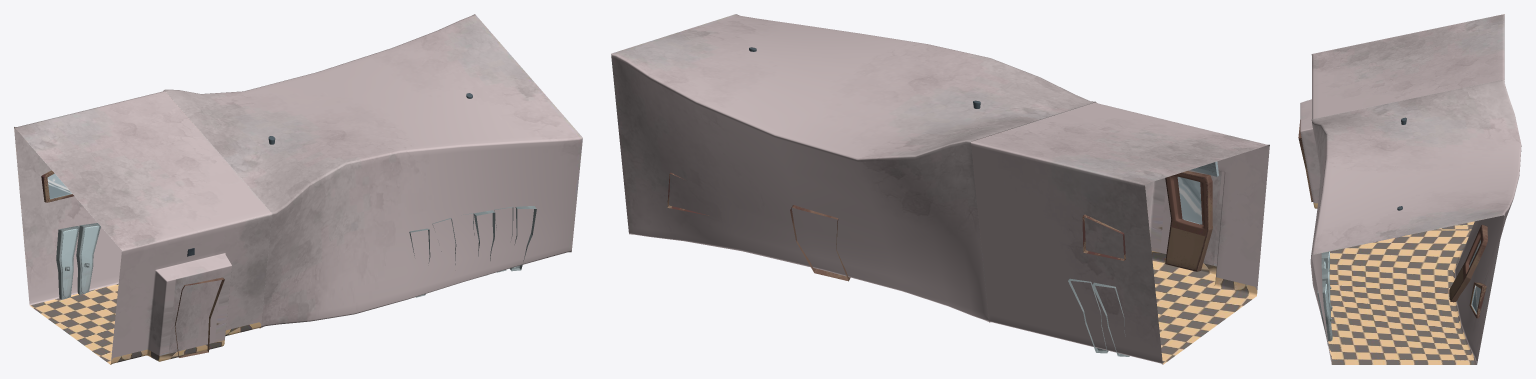
The model's file is corridor_3.fbx.
The picture shows the model from 3 angles, left to right: view 1: azimuth 30°, elevation 25°; view 2: azimuth 150°, elevation 25°; view 3: azimuth 270°, elevation 25°; orthographic projection. The views are drawn at different scales.
Visible parts, largest first — view 1: polySurface75; view 2: polySurface75; view 3: polySurface75.
Part boxes in pixels (x1,y1,x2,y2): polySurface75: [14, 14, 582, 364]; polySurface75: [611, 14, 1269, 364]; polySurface75: [1298, 14, 1521, 364].
Bounding box in the file's own units: 1189 × 428 × 557.
7 materials, 7 textured.
